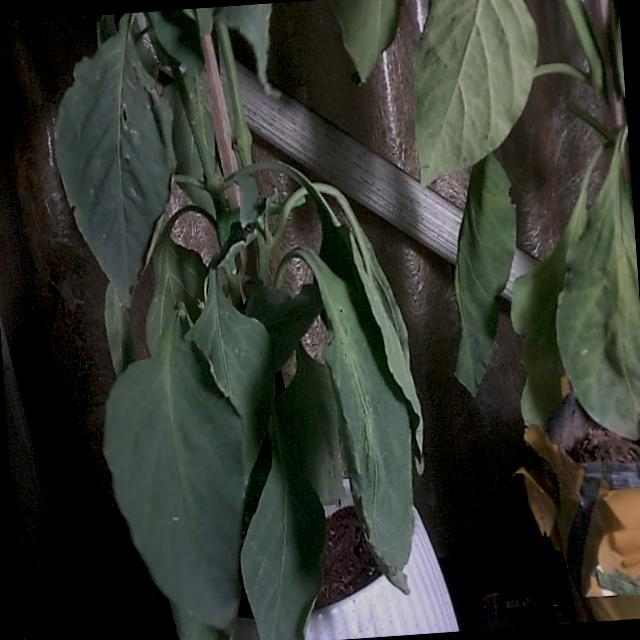Leaf: (104, 315, 256, 630), (55, 13, 174, 306), (556, 130, 639, 438), (511, 149, 601, 427), (414, 0, 537, 185), (455, 154, 516, 396), (145, 231, 207, 352), (330, 0, 402, 81), (104, 283, 136, 375)
